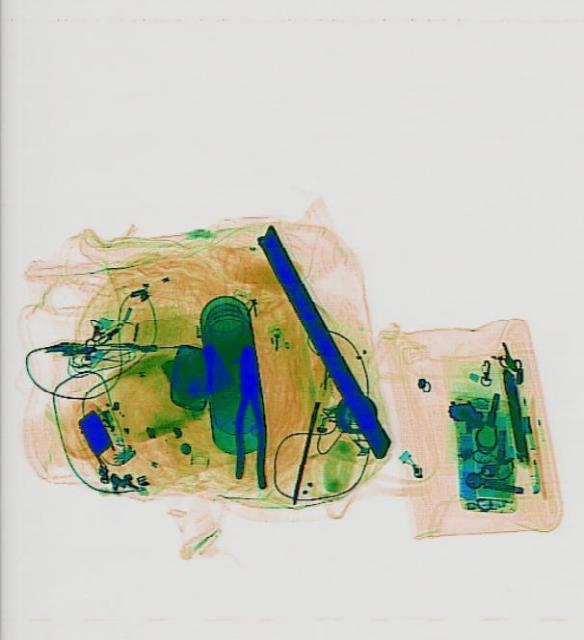Pliers: (229, 346, 267, 489)
